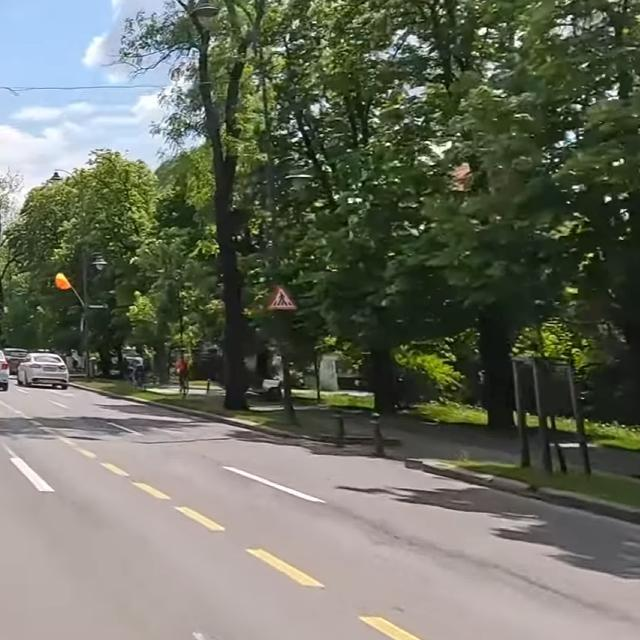warn_crosswalk: (268, 285, 296, 309)
